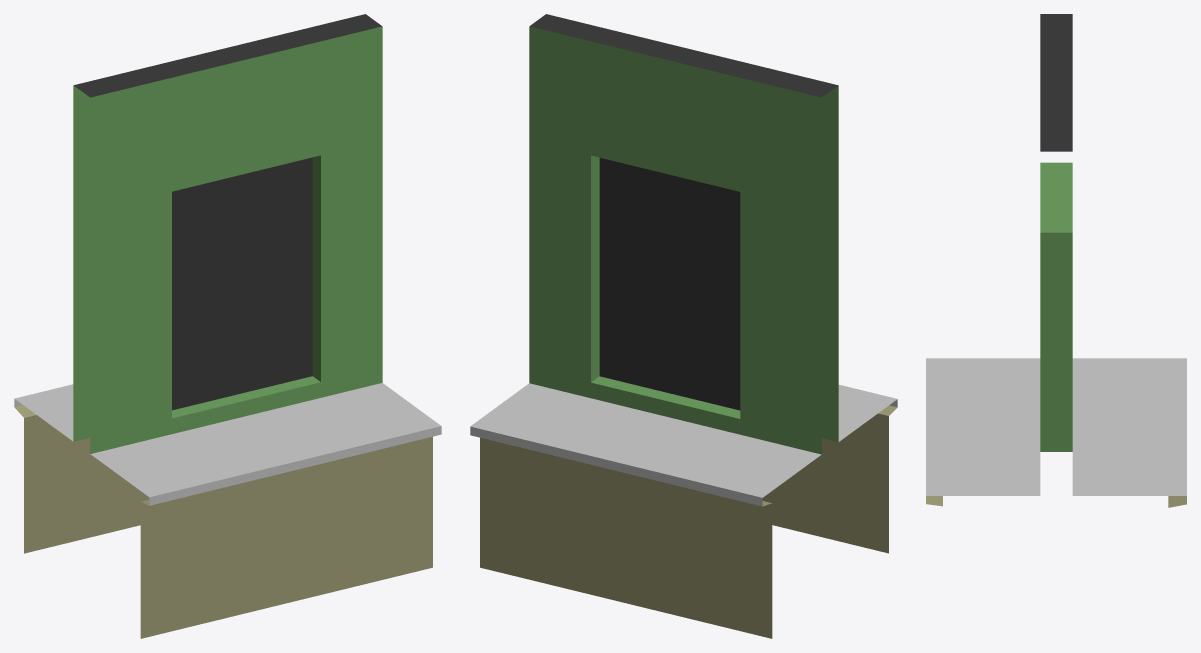
The model's file is SM_Window_Negotiation_200.FBX.
The picture shows the model from 3 angles, left to right: view 1: azimuth 30°, elevation 25°; view 2: azimuth 150°, elevation 25°; view 3: azimuth 270°, elevation 25°; orthographic projection. The views are drawn at different scales.
Visible parts, largest first — view 1: SM_Window_Negotiation_200; view 2: SM_Window_Negotiation_200; view 3: SM_Window_Negotiation_200.
Part boxes in pixels (box(x1,y1,x2,y2)): SM_Window_Negotiation_200: box(14, 14, 441, 638); SM_Window_Negotiation_200: box(470, 14, 897, 638); SM_Window_Negotiation_200: box(926, 14, 1186, 507).
Size of the model in its own units: 200 by 160 by 330.
